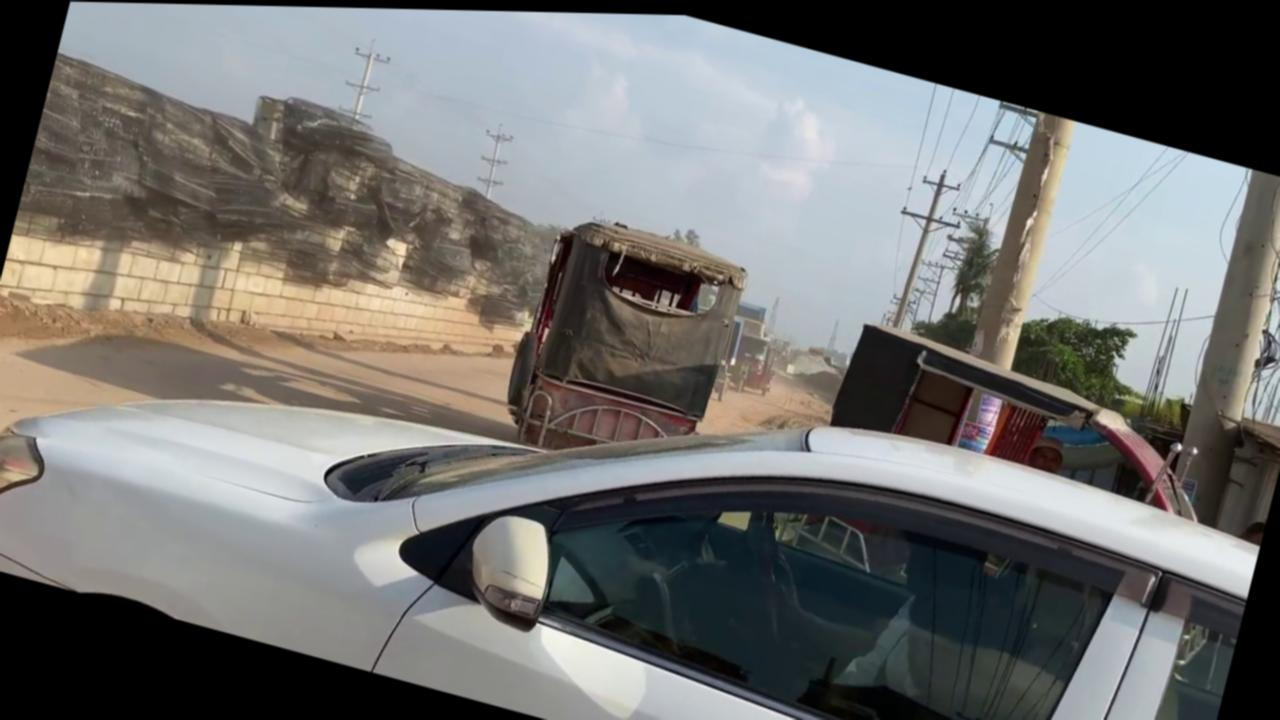Car: (0, 197, 1261, 720)
Garbage: (16, 30, 572, 352)
Muddy road: (0, 154, 847, 720)
Pole: (1160, 160, 1280, 523), (966, 103, 1076, 368), (872, 155, 972, 334)
Traffic-sign: (934, 205, 1006, 317)
Tree: (826, 310, 1222, 520), (493, 200, 754, 488), (716, 283, 795, 398)
